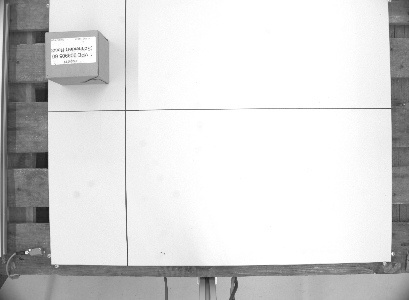b5: (42, 28, 110, 86)
